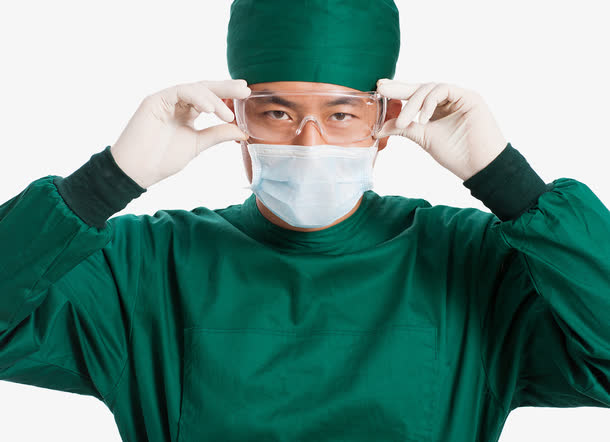mask: (235, 127, 384, 235)
